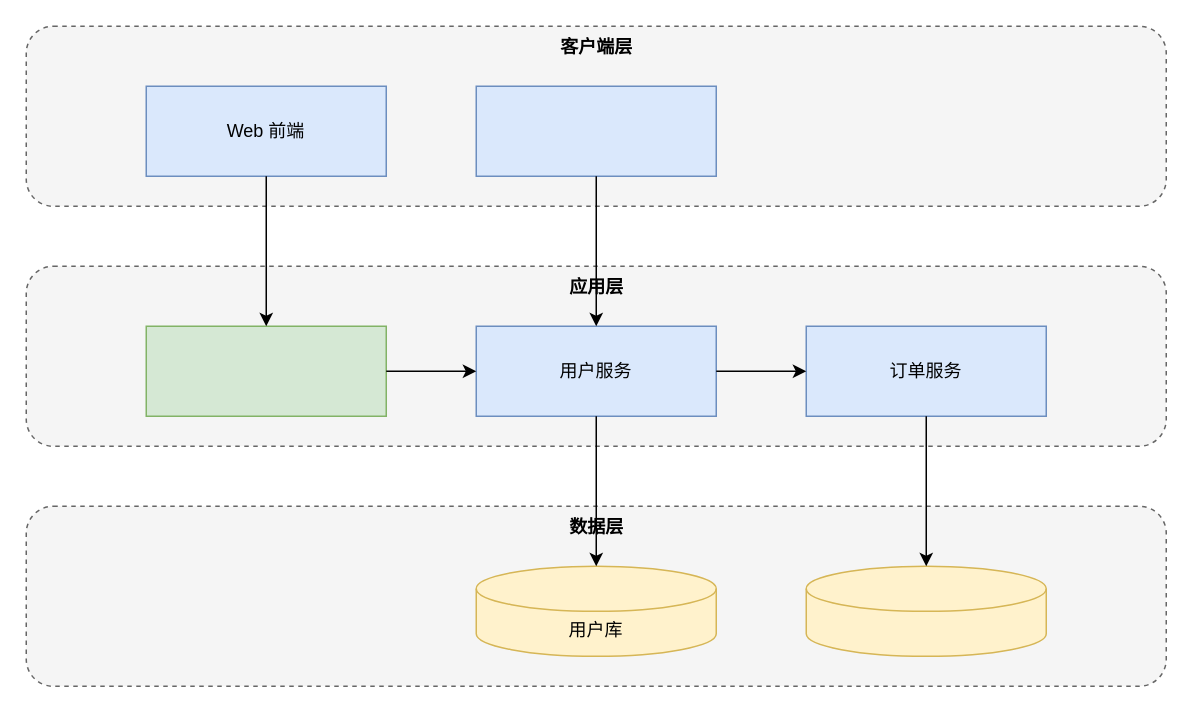
Image size: 1193x713. Some labels were removed from this diagram. Here are the shapes that lost their labels. From the top down, the centre of each, then its label:
At pixel 595 130: "移动端".
At pixel 265 370: "API 网关".
At pixel 925 610: "订单库".
